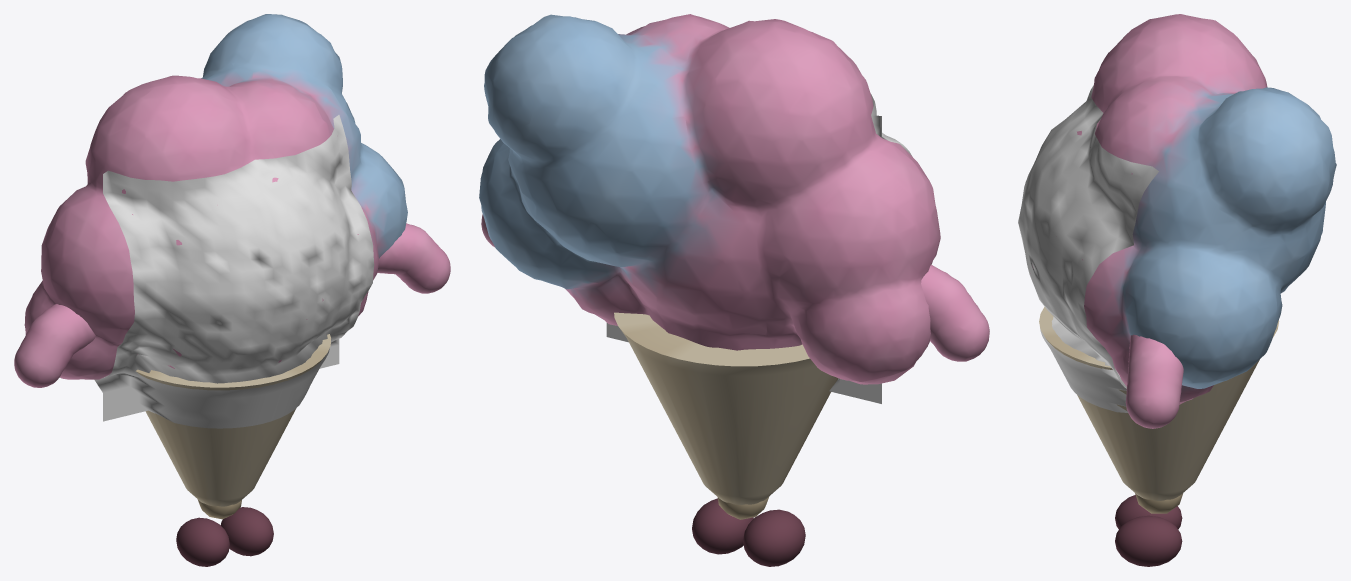
File: folk2_floss_lod1.glb
3 views of the same model, side by side, from view 1: azimuth 30°, elevation 25°; view 2: azimuth 150°, elevation 25°; view 3: azimuth 270°, elevation 25° (orthographic). The views are drawn at different scales.
Visible parts, largest first — view 1: floss_face, floss_body, floss_arm_l, floss_arm_r, floss_foot_l, floss_foot_r; view 2: floss_body, floss_arm_l, floss_foot_l, floss_foot_r, floss_face; view 3: floss_body, floss_face, floss_arm_r, floss_foot_r, floss_foot_l.
Part boxes in pixels (x1=…): floss_face: x1=94, y1=115, x2=374, y2=428; floss_body: x1=24, y1=14, x2=407, y2=519; floss_arm_l: x1=14, y1=304, x2=95, y2=387; floss_arm_r: x1=377, y1=223, x2=450, y2=293; floss_foot_l: x1=176, y1=517, x2=229, y2=566; floss_foot_r: x1=220, y1=507, x2=273, y2=556; floss_body: x1=479, y1=14, x2=940, y2=519; floss_arm_l: x1=921, y1=265, x2=989, y2=361; floss_foot_l: x1=743, y1=509, x2=805, y2=566; floss_foot_r: x1=692, y1=498, x2=753, y2=554; floss_face: x1=606, y1=94, x2=911, y2=403; floss_body: x1=1030, y1=14, x2=1336, y2=513; floss_face: x1=1018, y1=85, x2=1158, y2=412; floss_arm_r: x1=1125, y1=334, x2=1183, y2=428; floss_foot_r: x1=1115, y1=515, x2=1182, y2=566; floss_foot_l: x1=1115, y1=495, x2=1182, y2=529.
Size of the model in its own units: 1.16 by 1.22 by 0.689.
